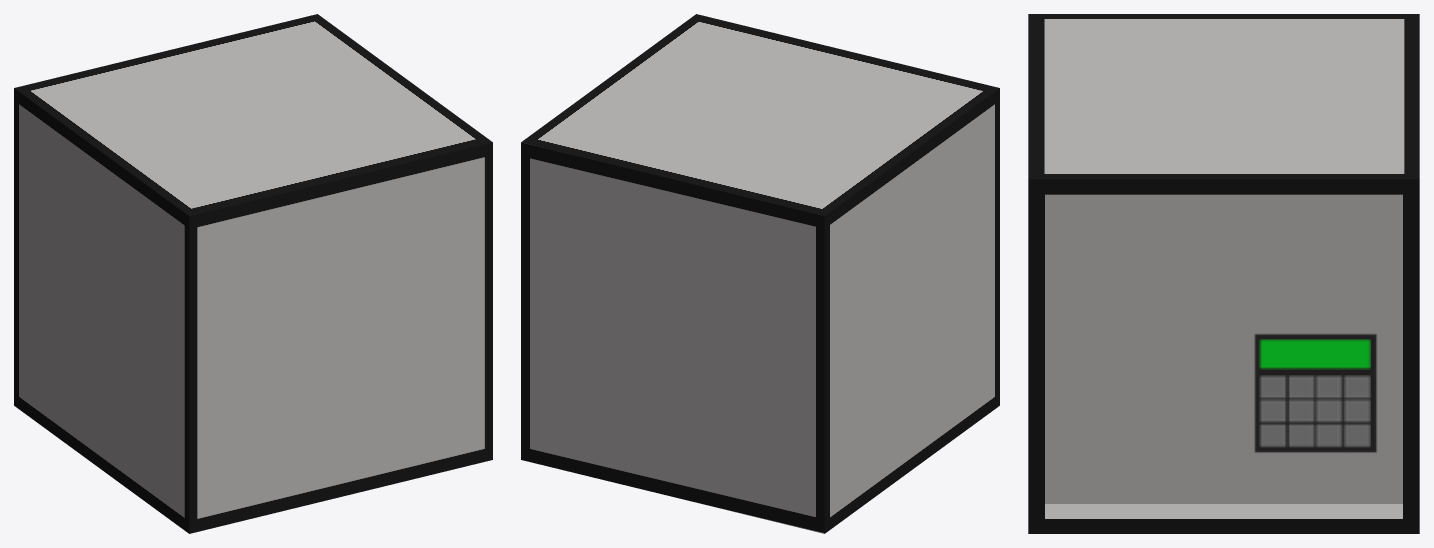
Rendered from case.fbx.
The picture shows the model from 3 angles, left to right: view 1: azimuth 30°, elevation 25°; view 2: azimuth 150°, elevation 25°; view 3: azimuth 270°, elevation 25°; orthographic projection. The views are drawn at different scales.
Parts seen in each view (by area): view 1: Case; view 2: Case; view 3: Case.
Part boxes in pixels (x1,y1,x2,y2): Case: (14,14,492,533); Case: (521,14,999,533); Case: (1028,14,1419,533).
Bounding box in the file's own units: 200 × 200 × 200.
